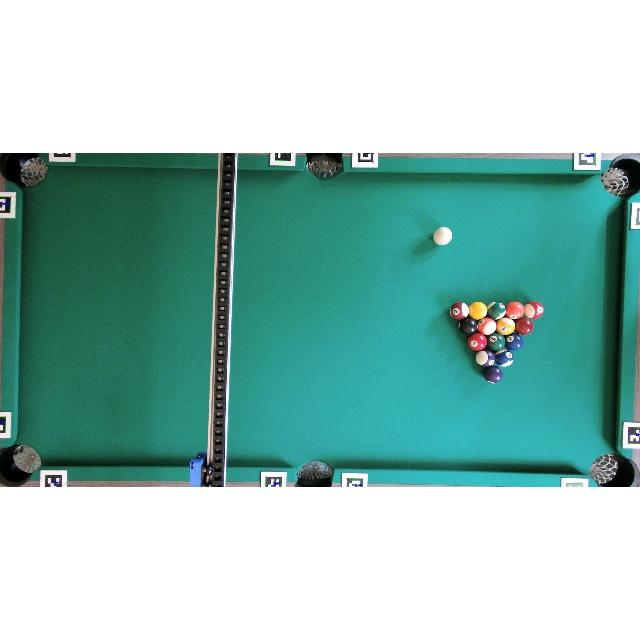cue ball: (432, 226, 453, 246)
other: (506, 301, 525, 320), (478, 317, 497, 336), (450, 302, 469, 321), (496, 317, 516, 335), (486, 302, 506, 320), (524, 301, 544, 319), (468, 333, 488, 351), (458, 317, 478, 335), (515, 318, 534, 336), (483, 366, 503, 383), (494, 349, 514, 366), (475, 350, 495, 367), (469, 302, 487, 320), (487, 333, 505, 351), (505, 334, 523, 352)
